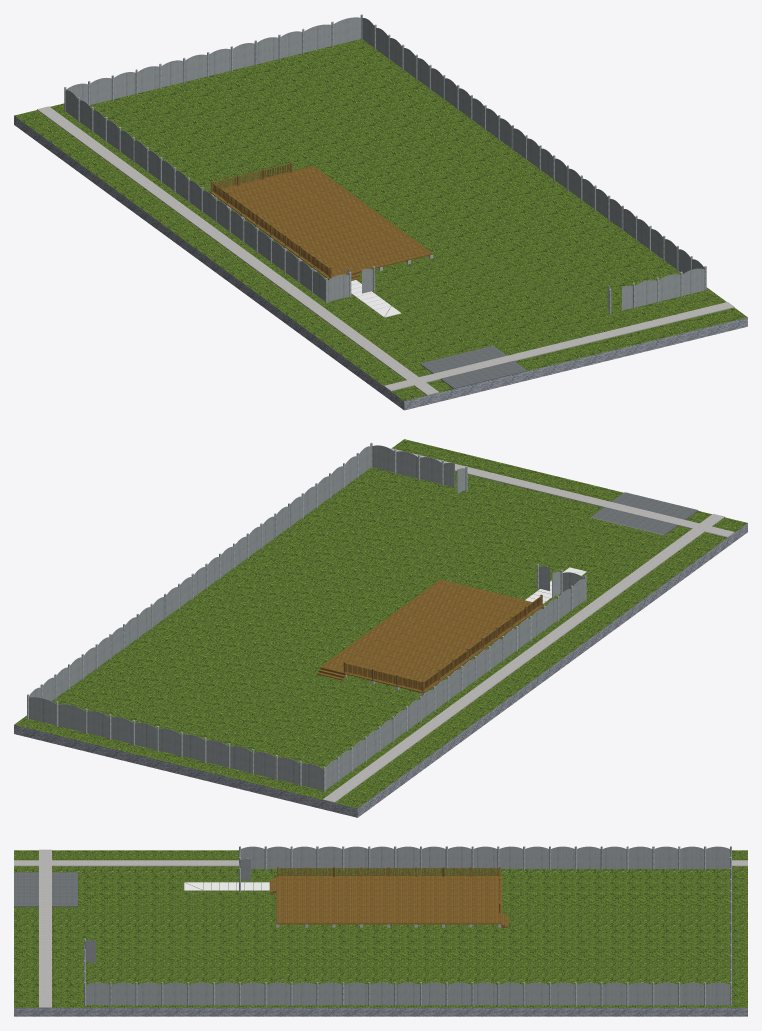
The model's file is Proj_House_ContemporaryIX.obj.
3 renders of one model, top to bottom at view 1: azimuth 30°, elevation 25°; view 2: azimuth 150°, elevation 25°; view 3: azimuth 270°, elevation 25°, orthographic. The views are drawn at different scales.
Parts seen in each view (by area): view 1: Proj_House_ContemporaryIX-COM-House_ContemporaryIX_LANDSCAPE-279; view 2: Proj_House_ContemporaryIX-COM-House_ContemporaryIX_LANDSCAPE-279; view 3: Proj_House_ContemporaryIX-COM-House_ContemporaryIX_LANDSCAPE-279.
Part boxes in pixels (x1,y1,x2,y2): Proj_House_ContemporaryIX-COM-House_ContemporaryIX_LANDSCAPE-279: (14,14,747,410); Proj_House_ContemporaryIX-COM-House_ContemporaryIX_LANDSCAPE-279: (14,439,747,817); Proj_House_ContemporaryIX-COM-House_ContemporaryIX_LANDSCAPE-279: (14,846,747,1016).
Bounding box in the file's own units: 35.62 × 3.38 × 70.06.
